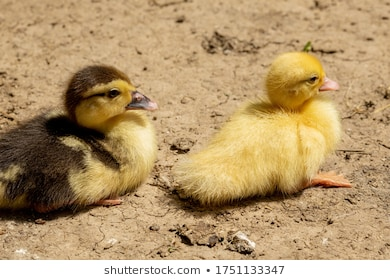duck: (172, 52, 371, 215), (1, 55, 169, 216)
